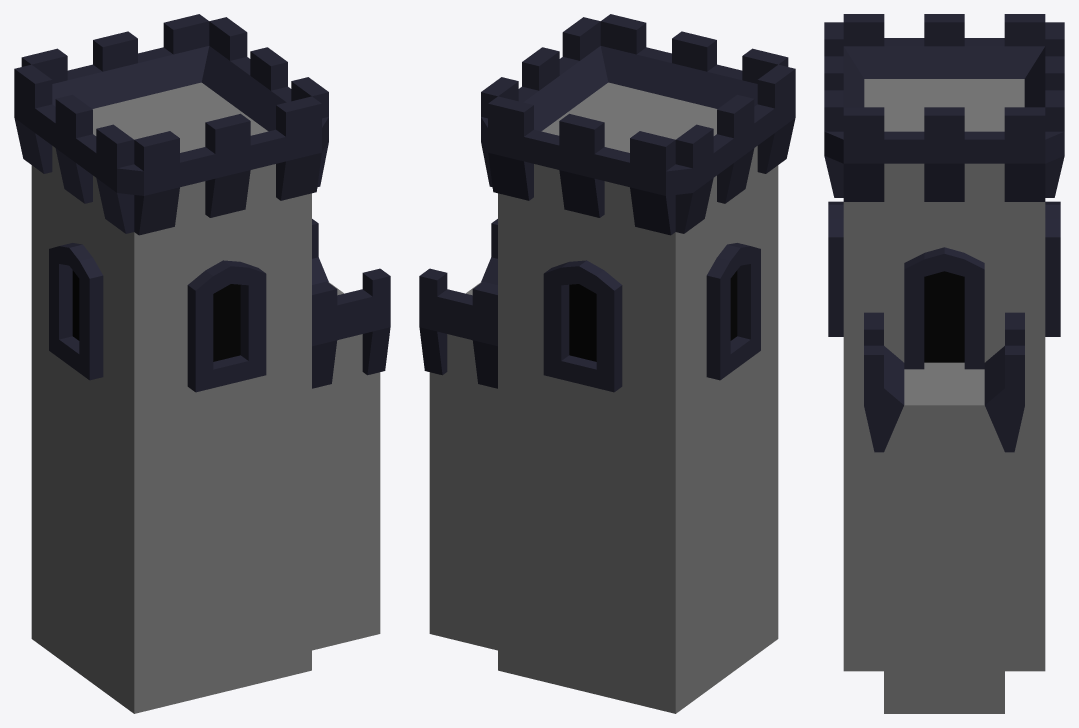
The model's file is Defence Cap.fbx.
The picture shows the model from 3 angles, left to right: view 1: azimuth 30°, elevation 25°; view 2: azimuth 150°, elevation 25°; view 3: azimuth 270°, elevation 25°; orthographic projection.
Visible parts, largest first — view 1: Defense Cap; view 2: Defense Cap; view 3: Defense Cap.
Boxes of the visible parts, <box> form: Defense Cap: <box>14,14,390,713</box>; Defense Cap: <box>419,14,795,713</box>; Defense Cap: <box>824,14,1064,713</box>.
Size of the model in its own units: 79.83 by 154 by 59.67.
